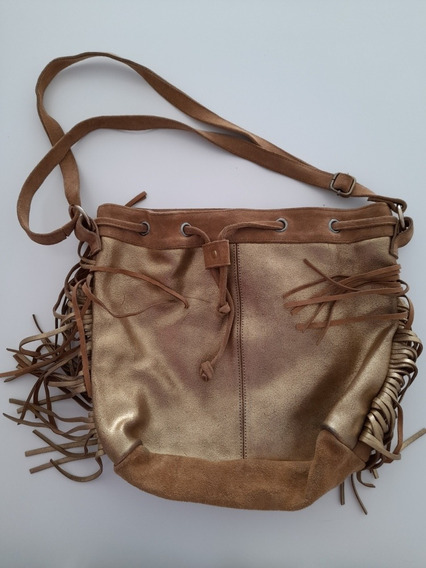cartera: (19, 47, 416, 518)
